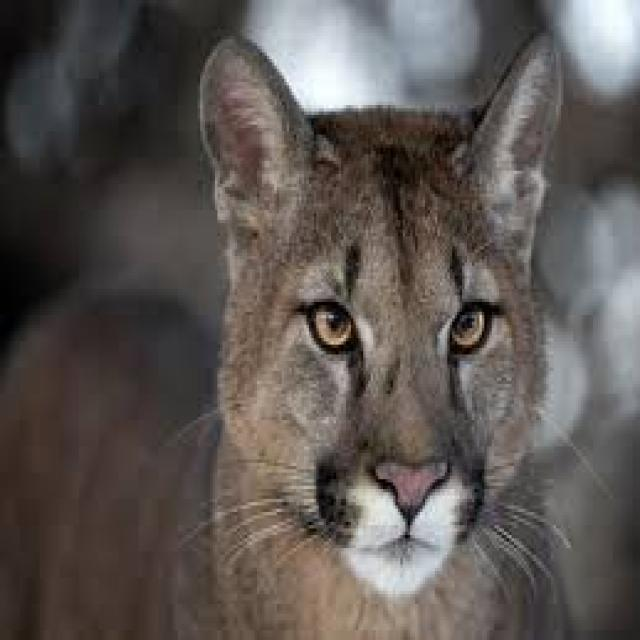Jaguar: (18, 75, 558, 640)
